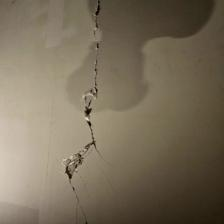Medium: (53, 7, 128, 190)
